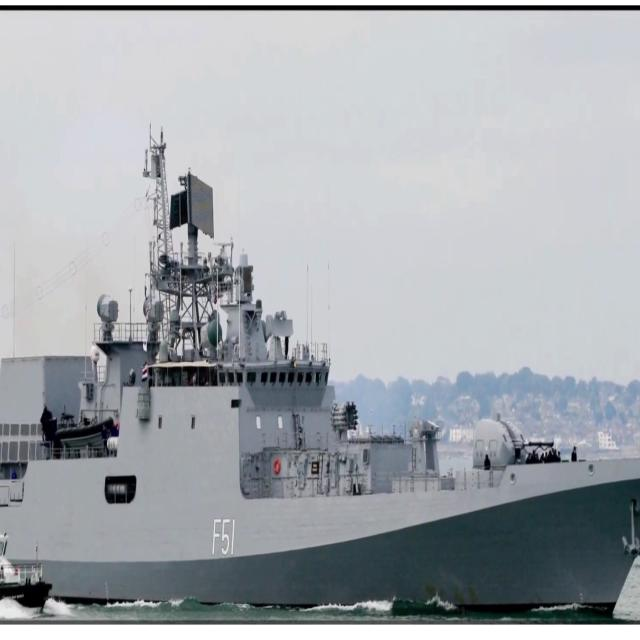OCR: (209, 512, 243, 565)
